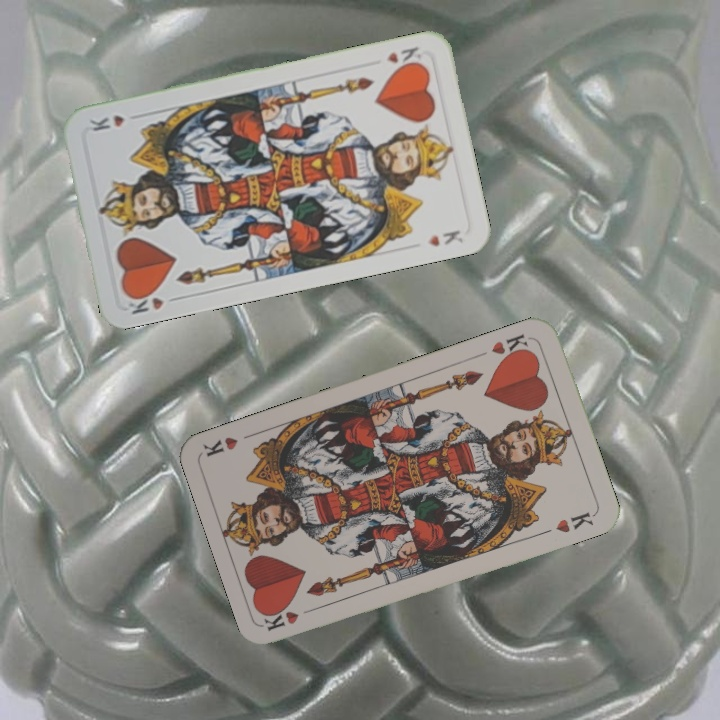HK: (122, 286, 183, 317), (261, 602, 320, 633), (487, 329, 534, 364), (382, 42, 425, 72)
